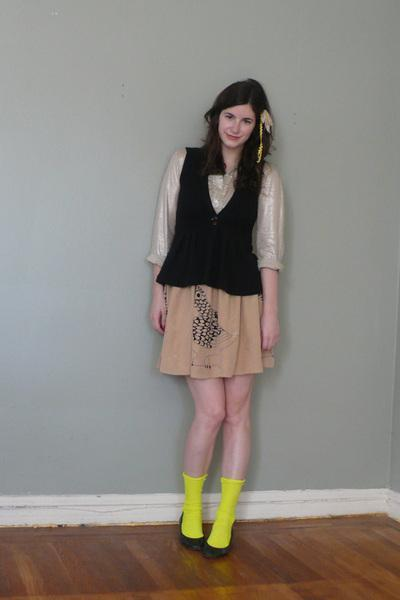shirt: (139, 147, 287, 297)
shoe: (181, 520, 212, 557)
skirt: (161, 285, 264, 384)
